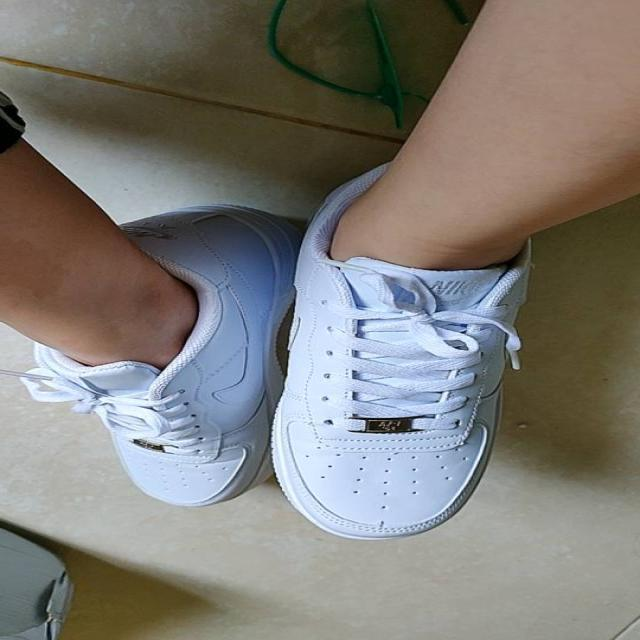nike fake air force: (263, 158, 529, 544), (32, 207, 290, 513)
